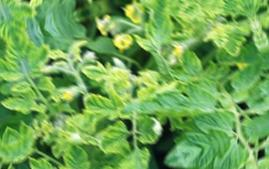Tomato leaf yellow virus: (125, 0, 192, 61), (77, 78, 124, 128), (91, 115, 139, 161), (110, 136, 161, 169), (3, 85, 47, 120), (10, 124, 50, 162), (77, 52, 120, 87), (54, 137, 100, 169), (218, 17, 253, 59), (5, 33, 42, 68), (0, 50, 29, 89), (28, 39, 62, 70), (171, 0, 213, 25), (27, 147, 63, 169), (212, 0, 246, 15), (171, 0, 202, 2)
